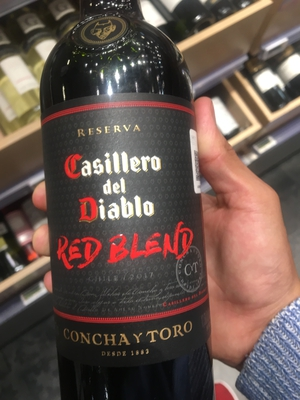casillero del diablo red blend: (35, 29, 218, 396)
